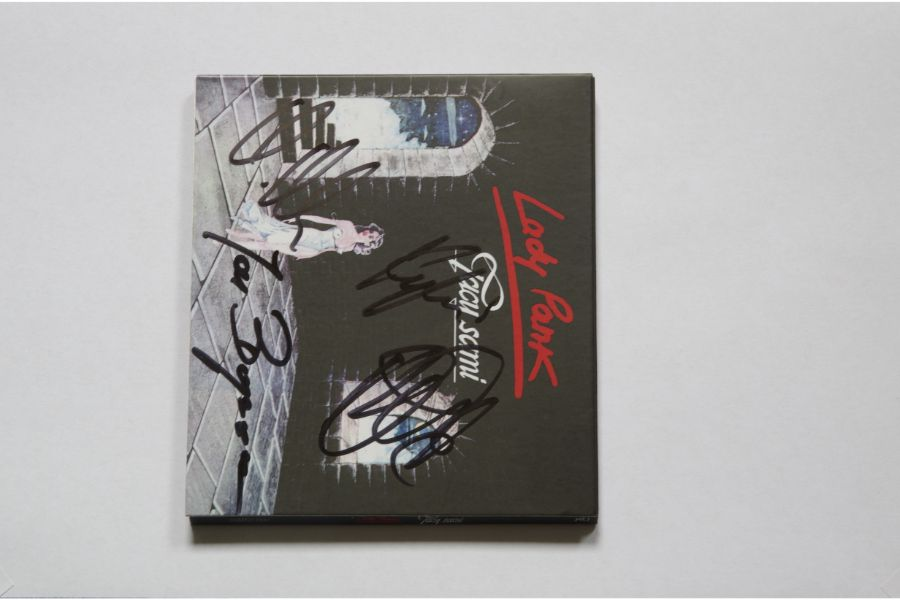album: (186, 73, 600, 527)
